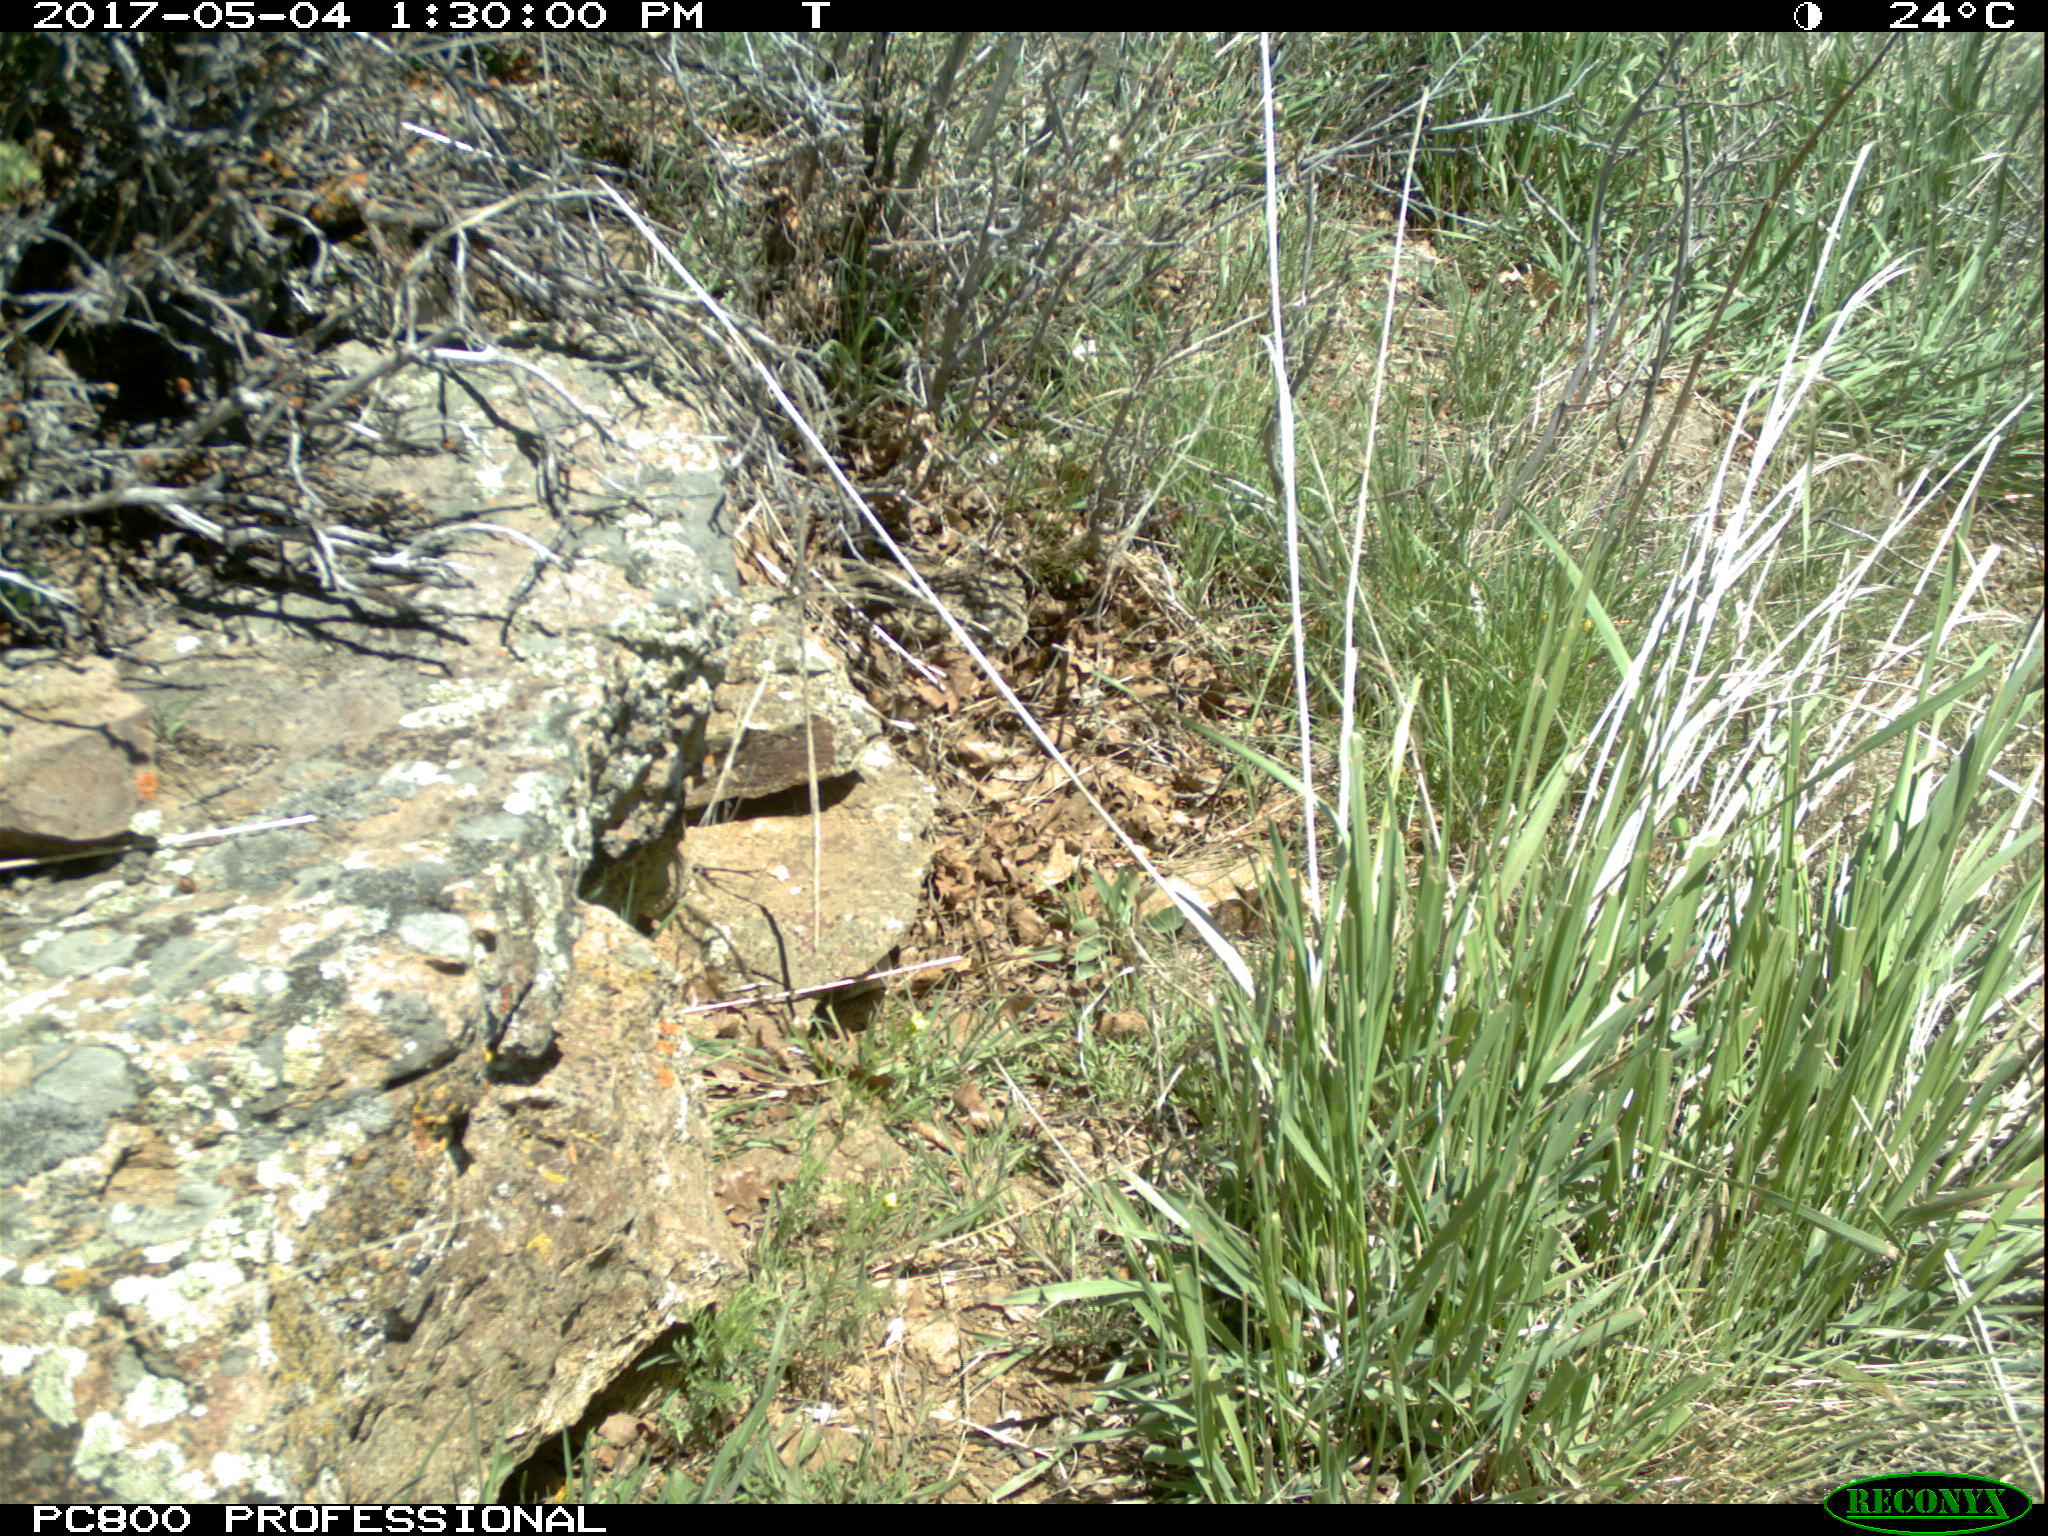snake: (621, 847, 690, 921)
